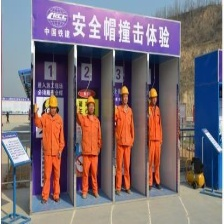helmet: (149, 87, 159, 102), (120, 86, 130, 100), (48, 96, 58, 108), (87, 98, 97, 109)
person: (42, 95, 64, 203), (81, 95, 102, 197), (117, 87, 135, 192), (149, 87, 163, 191)
vest: (81, 116, 101, 157), (44, 115, 61, 158), (117, 108, 131, 144), (149, 109, 162, 142)
